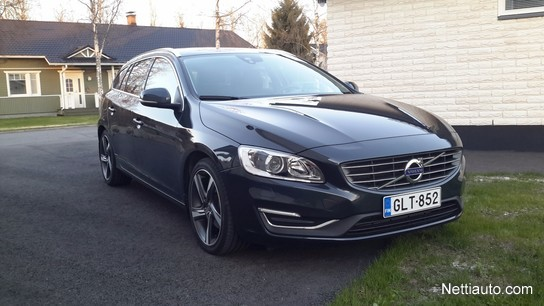car: (96, 47, 470, 256)
